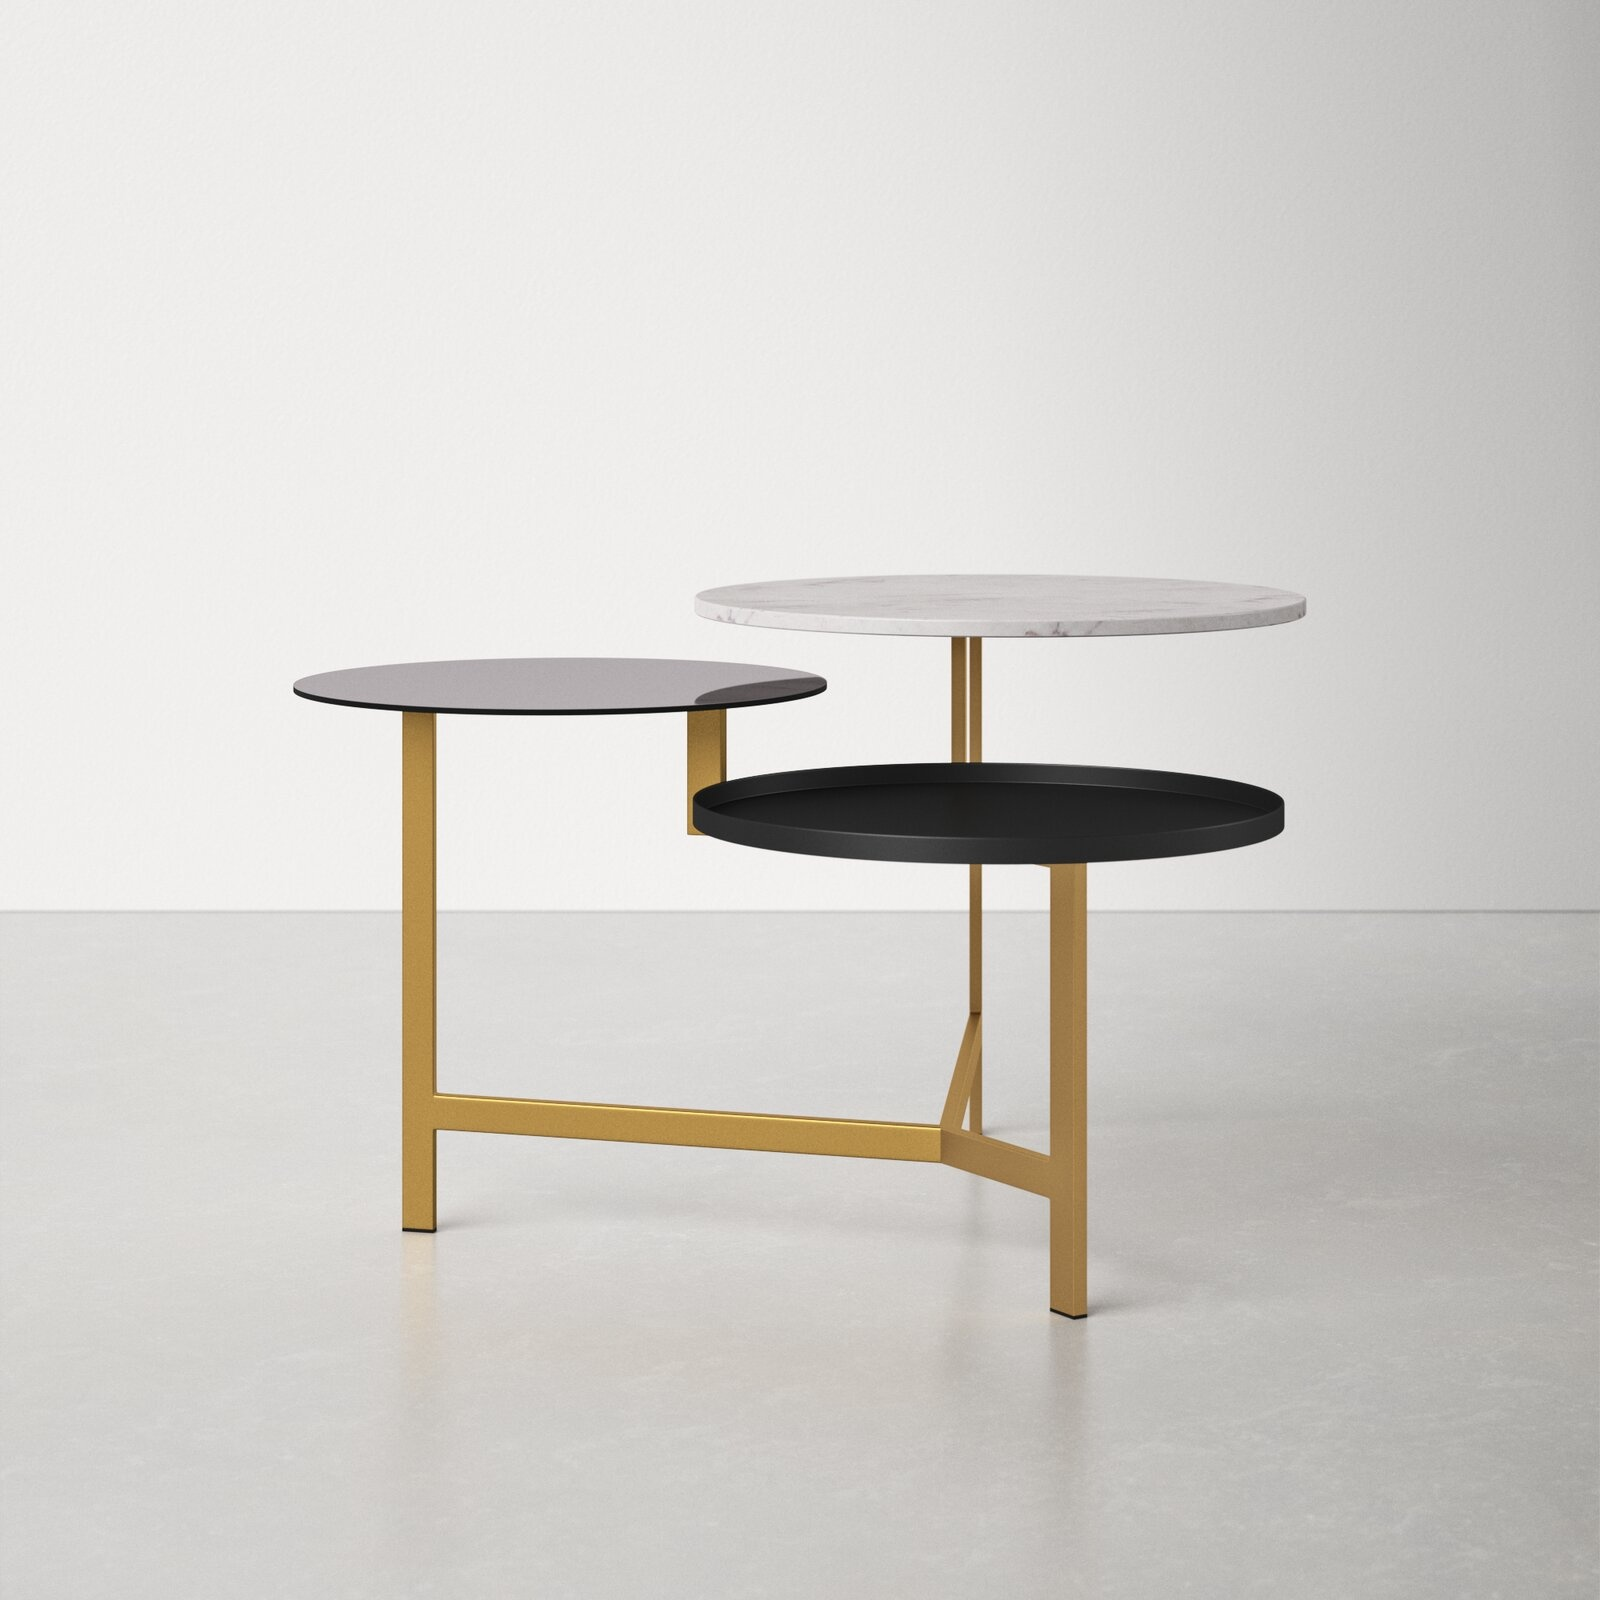obstacle: (295, 574, 1304, 1316)
